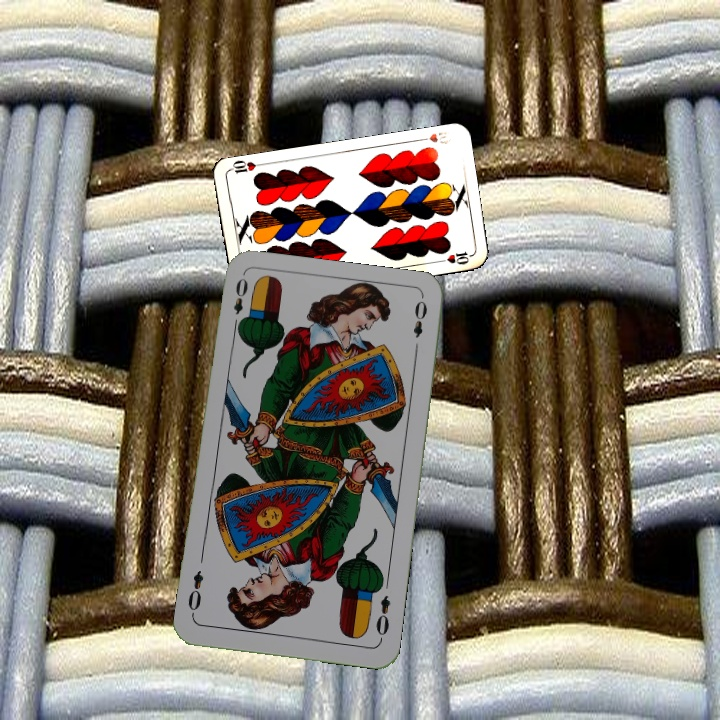EO: (229, 273, 250, 333), (372, 591, 393, 643)
H10: (413, 127, 452, 147)
